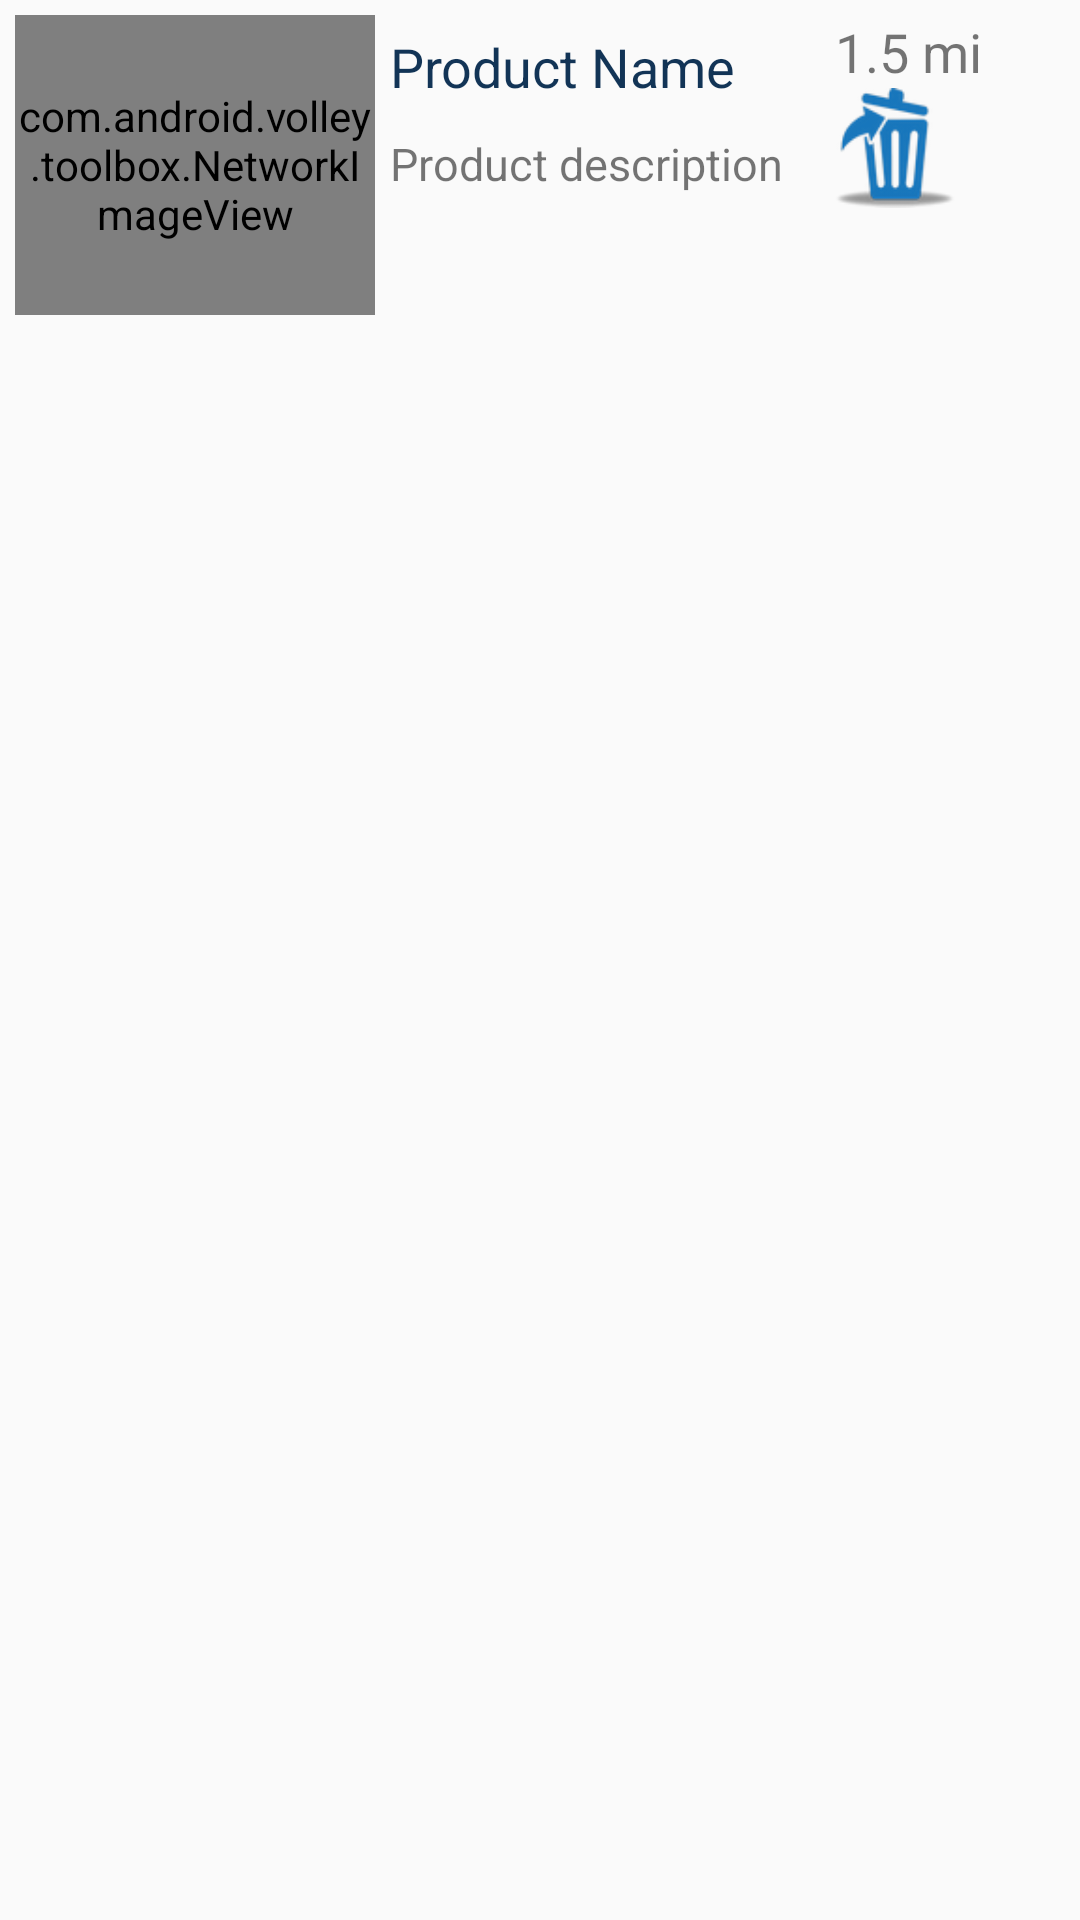

Named icons in this screenshot (1080px x 1920px) and their centers, [x,y]:
delete: [895,147]
